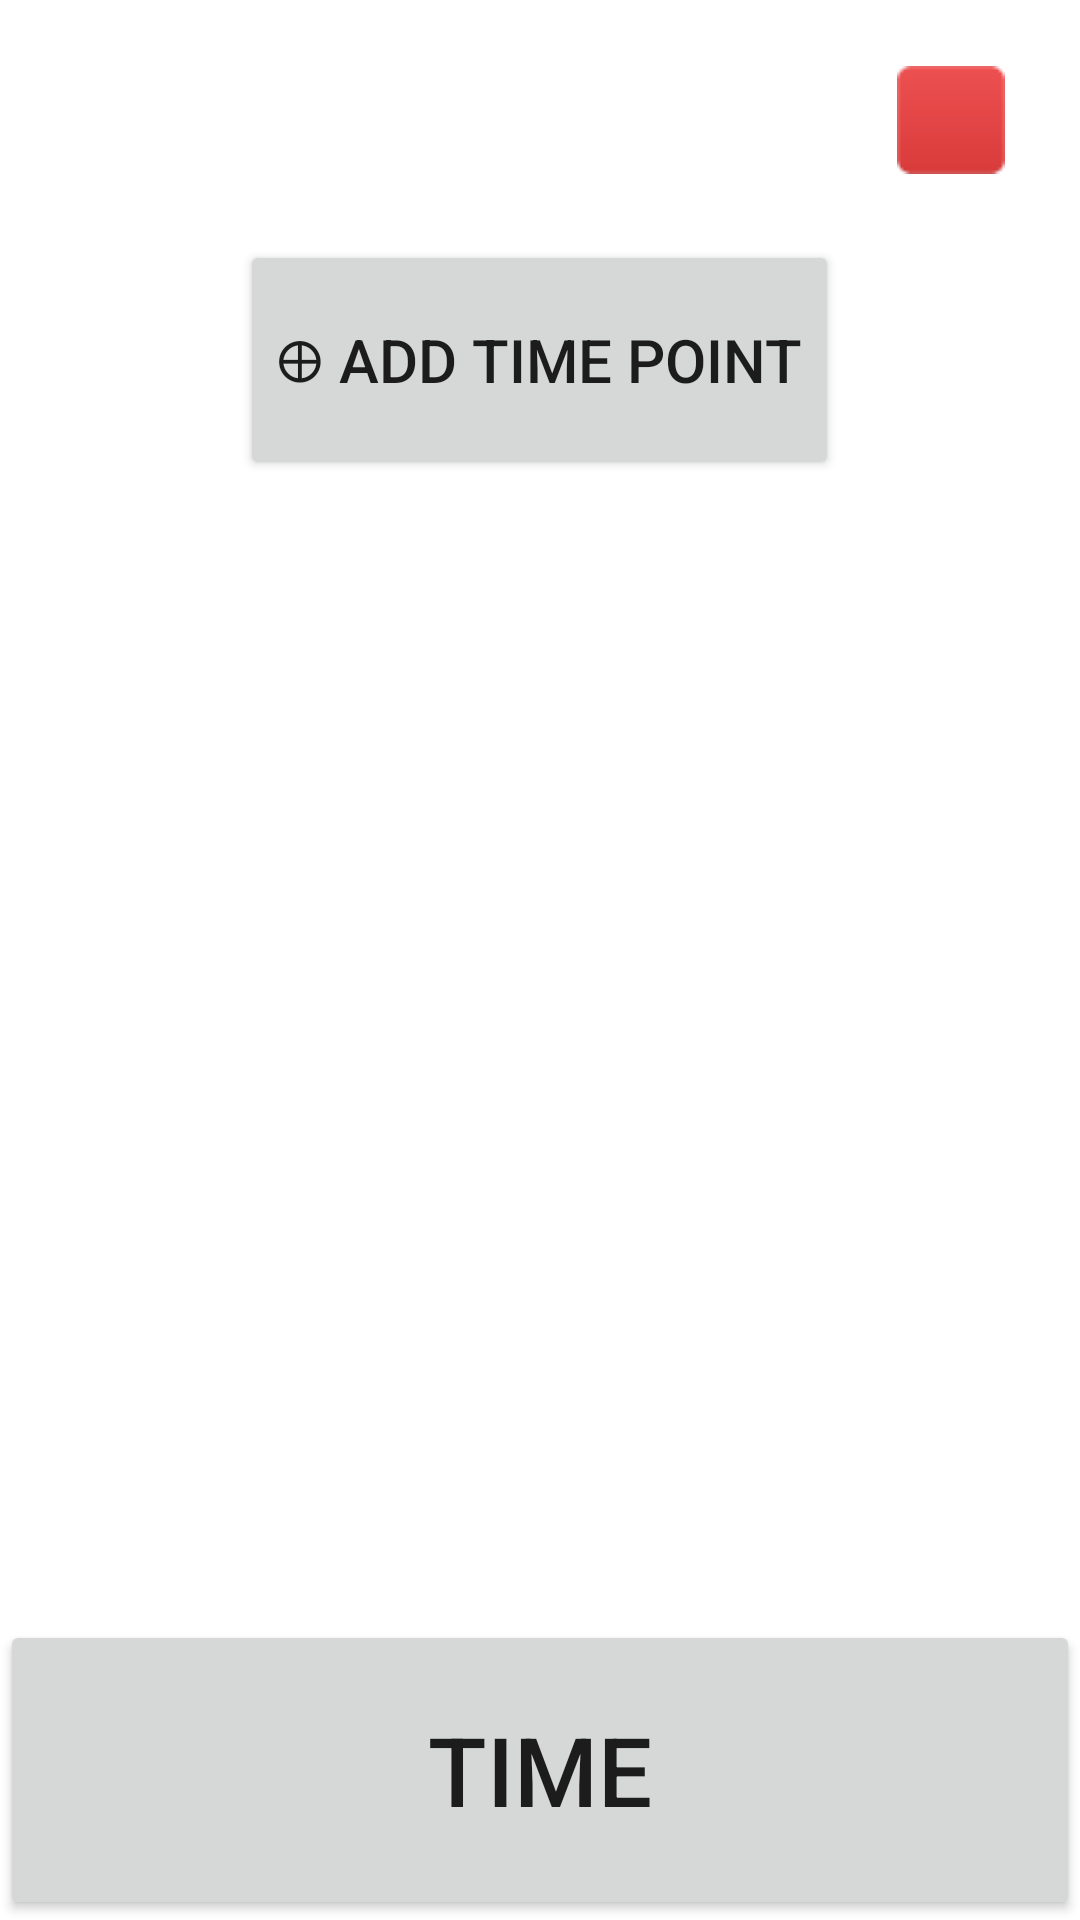

Where icons sit on this 1080px×1920px app screen, as (x1, y1, x2, y2):
Stop event: (897, 66, 1005, 174)
